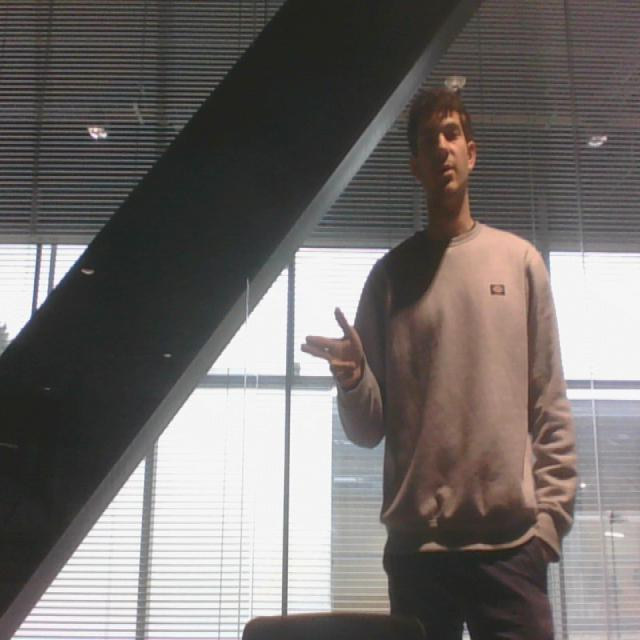left: (296, 297, 374, 399)
